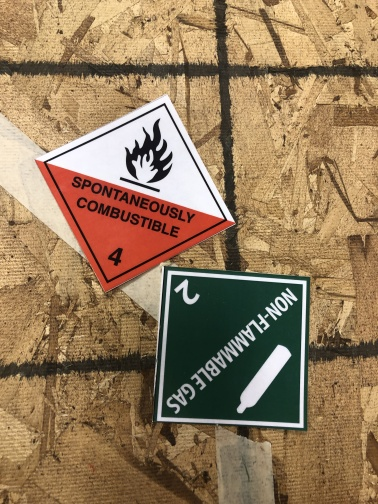NonFlammableGas: (154, 265, 308, 434)
SpontaneouslyCombustible: (36, 94, 236, 292)
